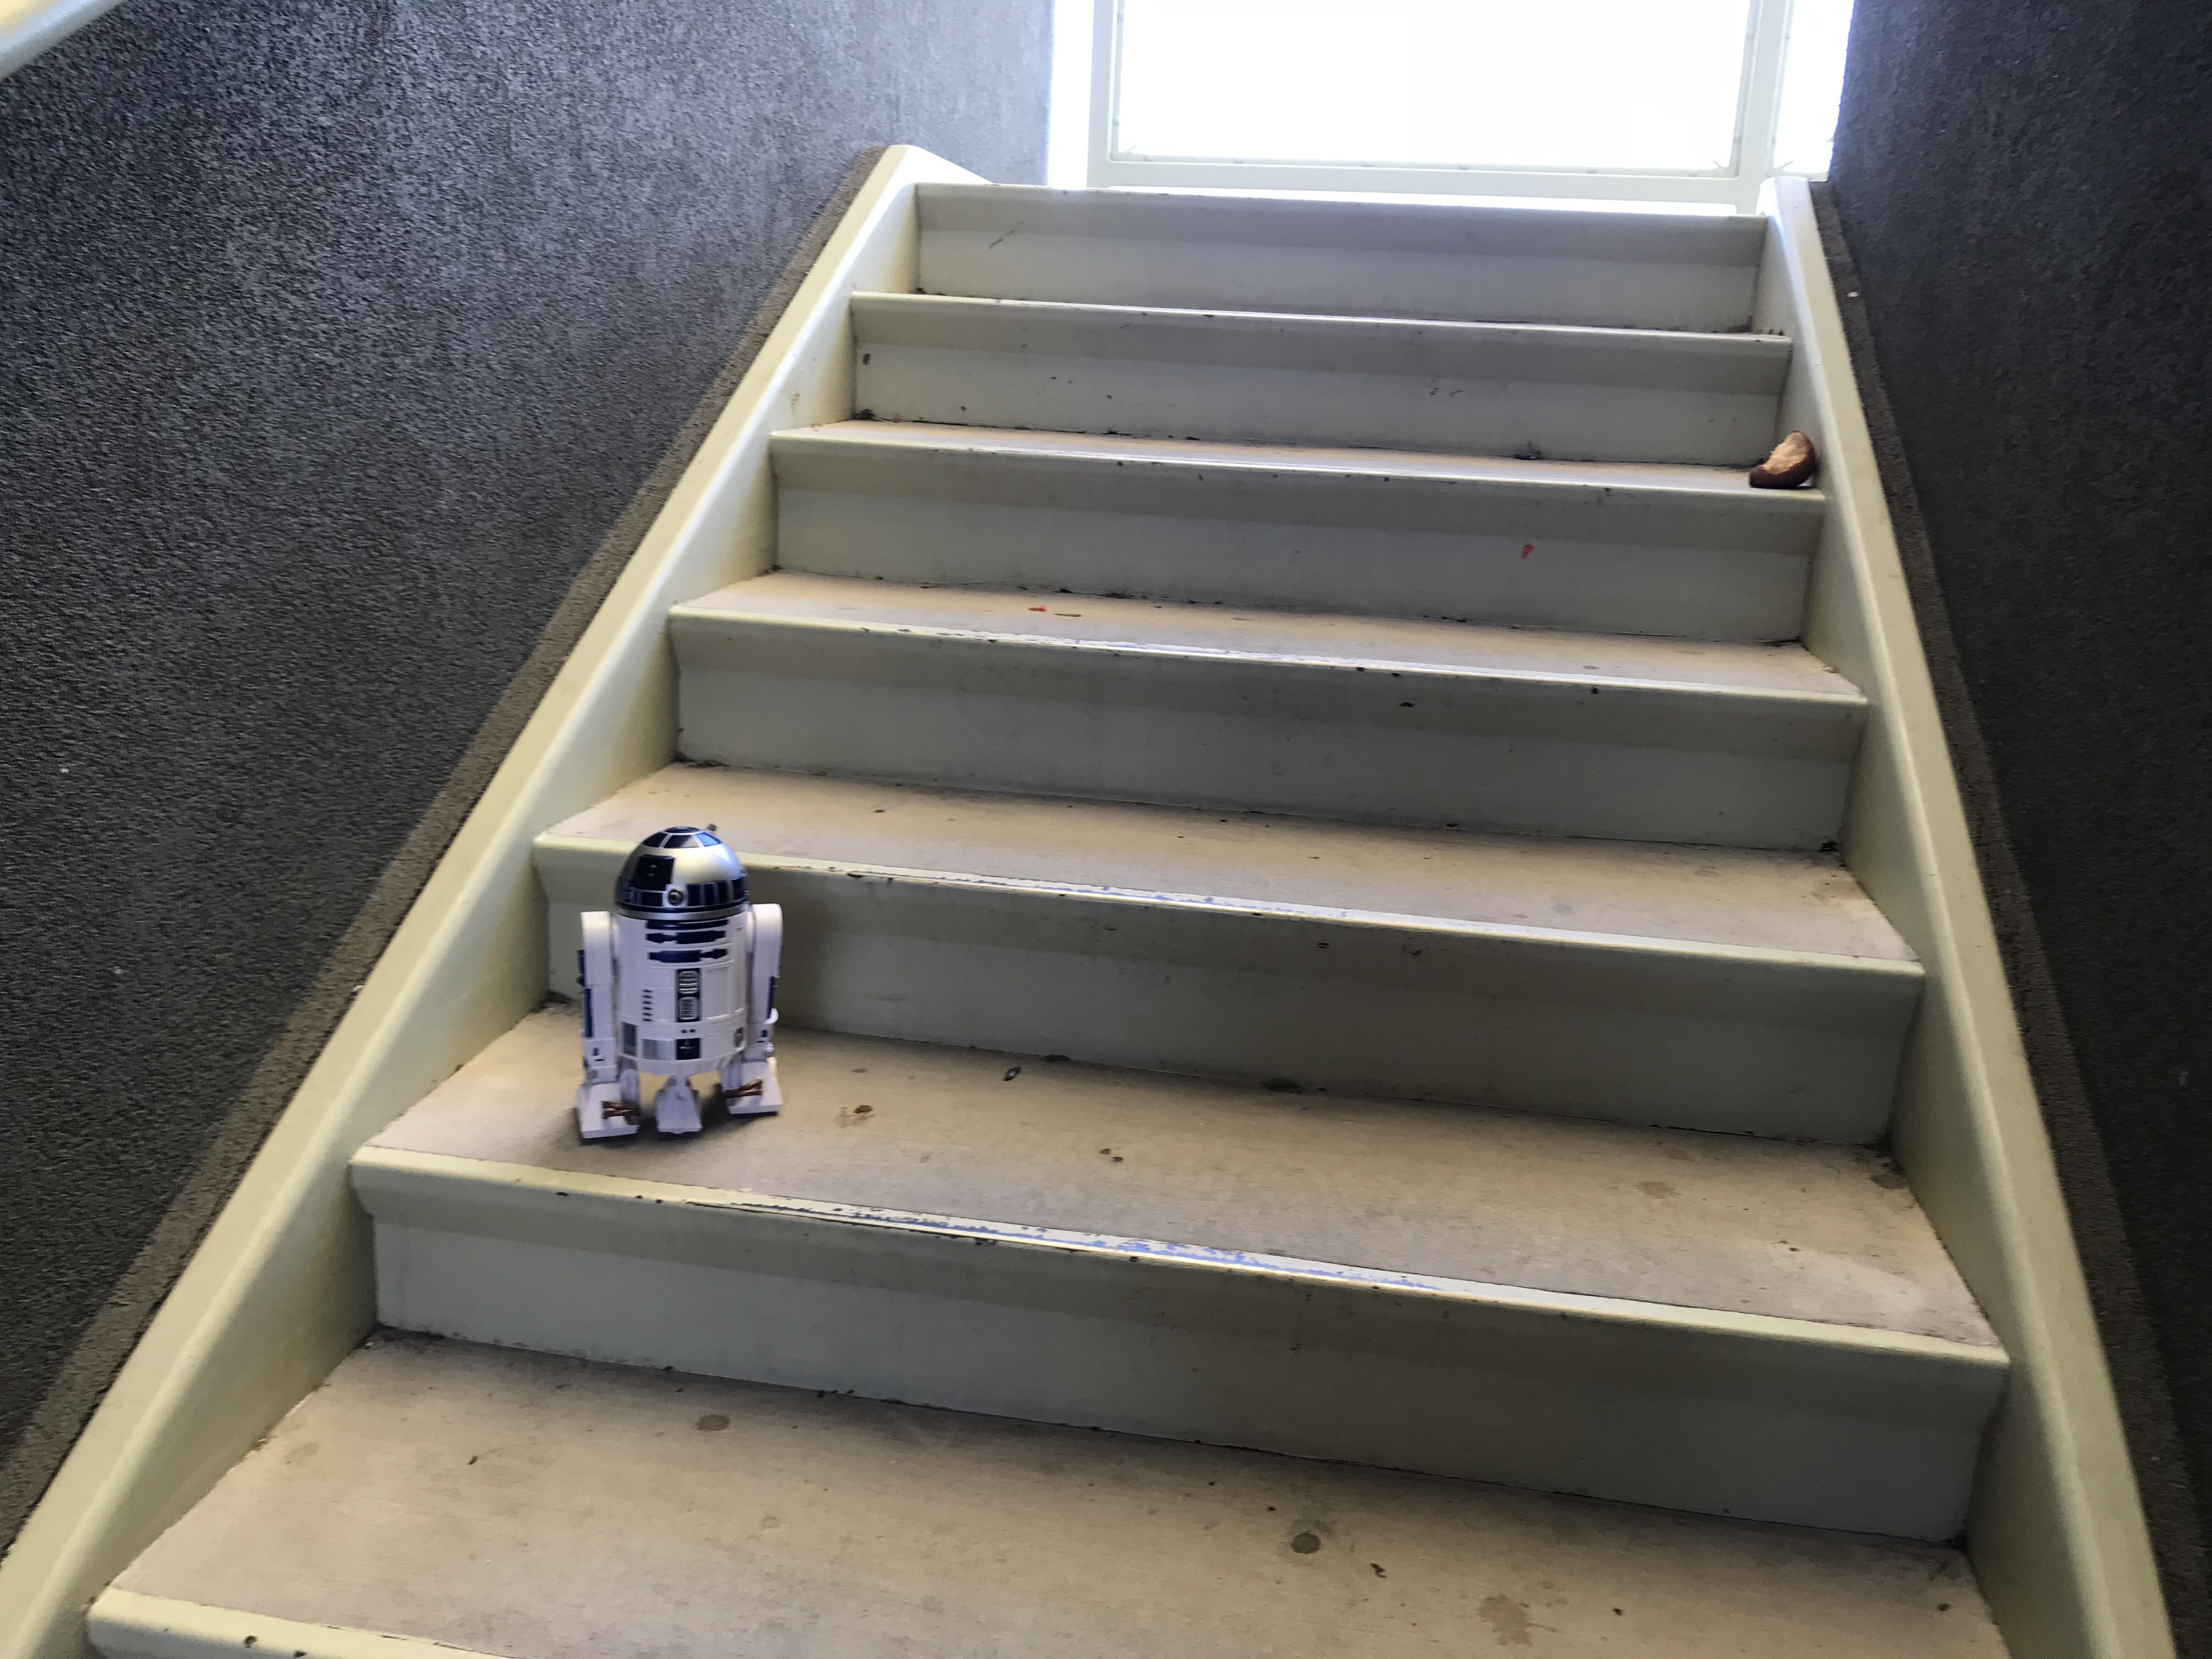r2d2: (573, 823, 786, 1150)
